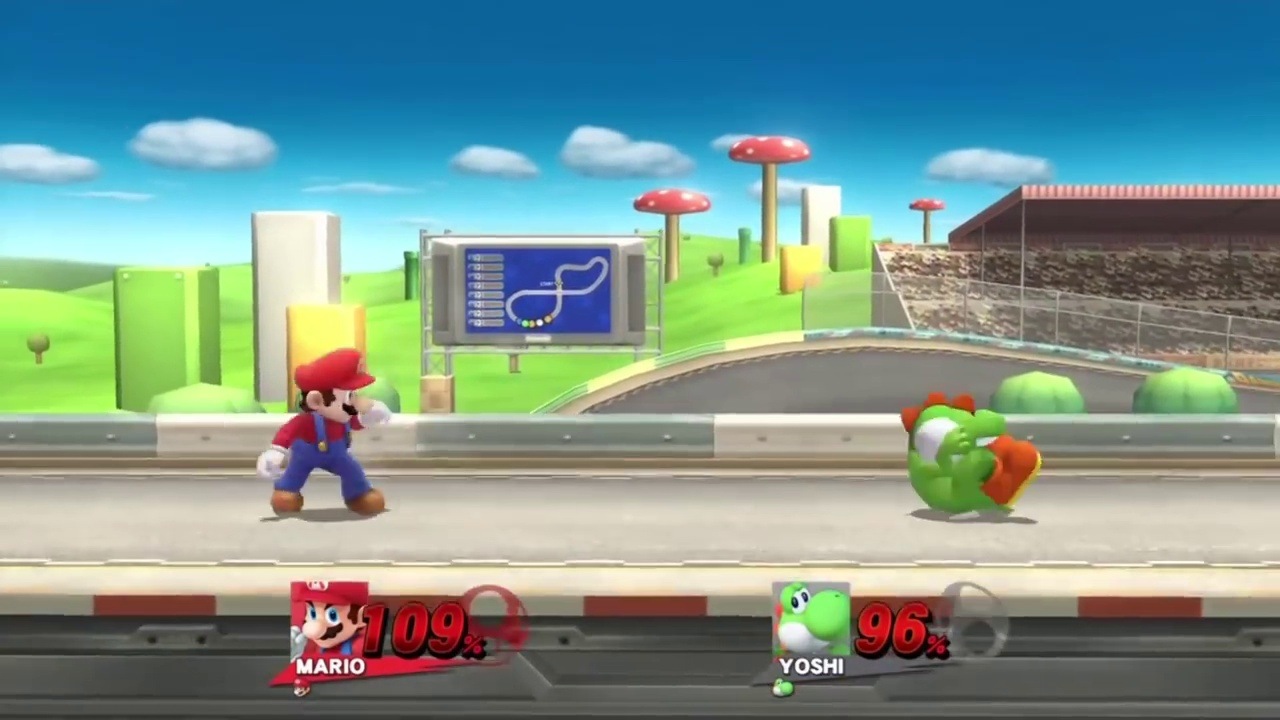Mario: (258, 349, 393, 517)
